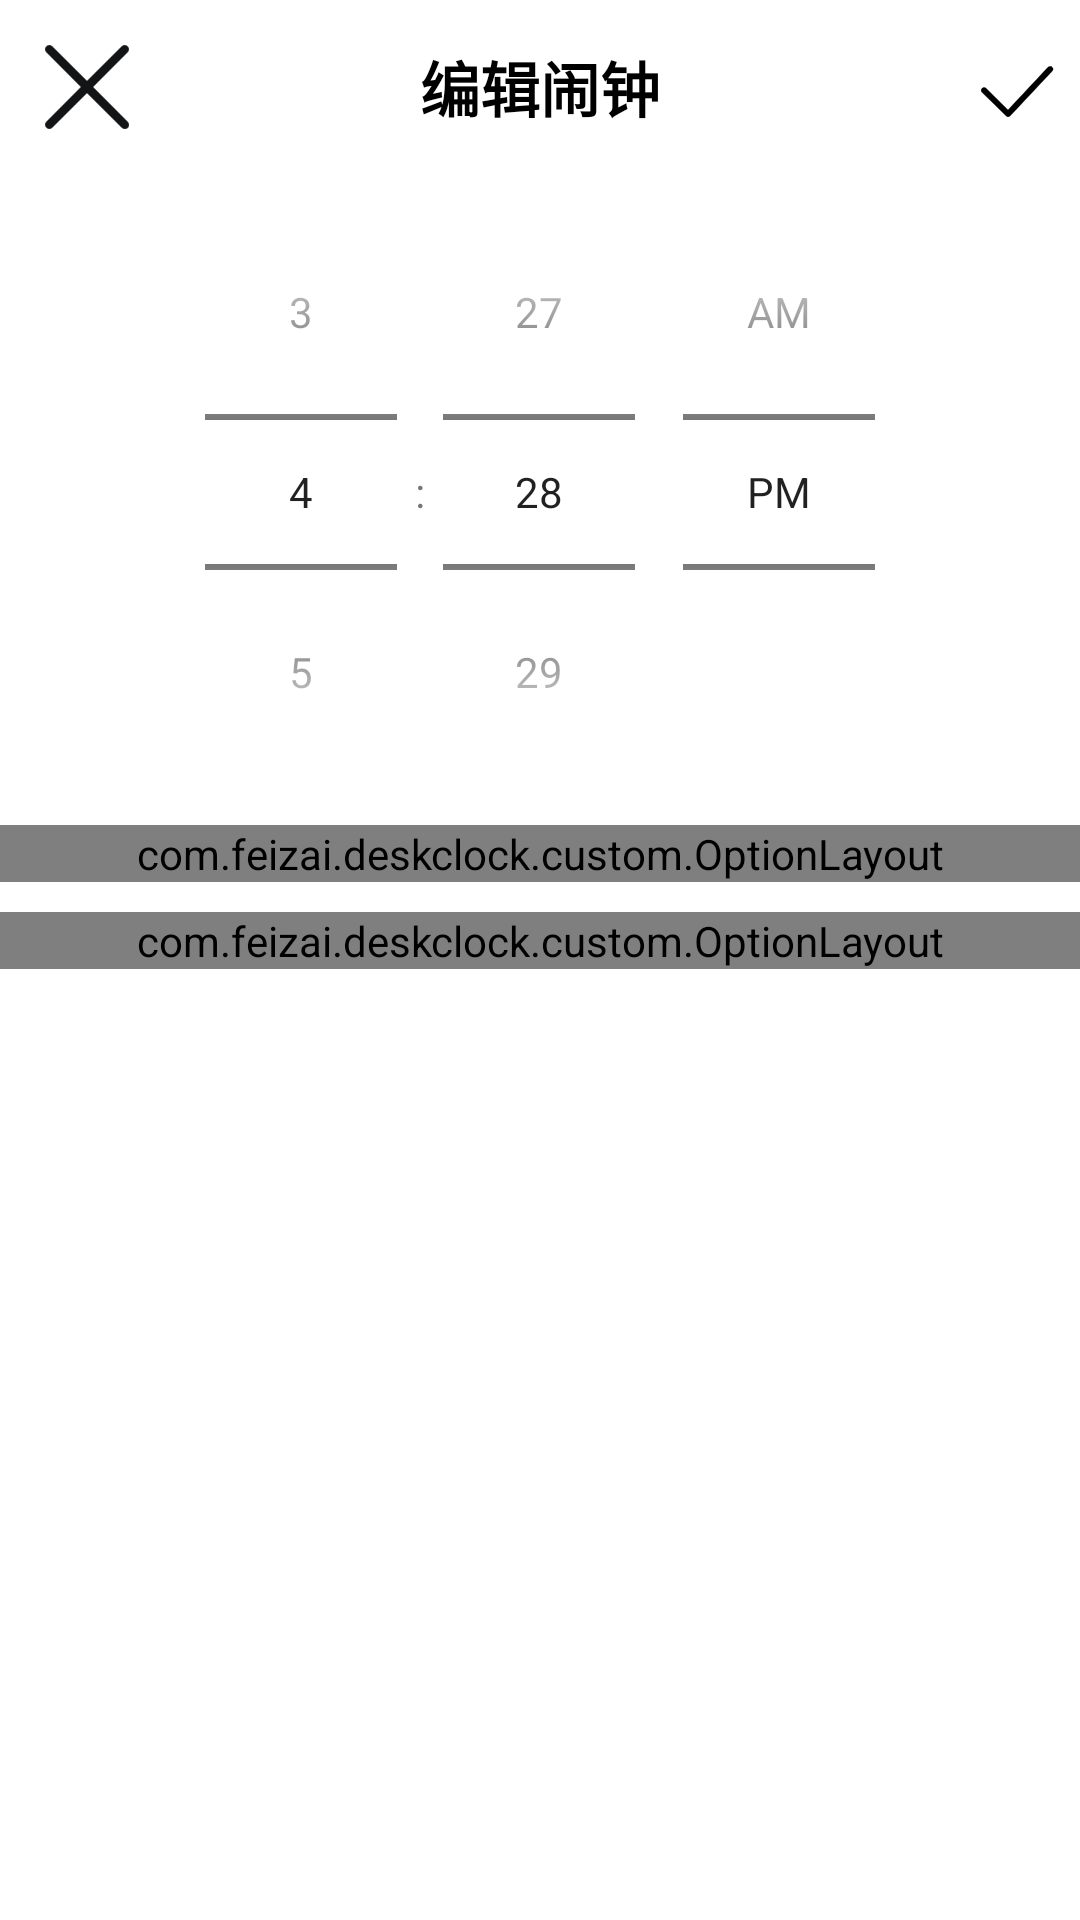

Where to tap for icons on this 1080px×1920px app screen, as (x=x, y=y):
cancel: (x=87, y=87)
sure: (x=1017, y=91)
